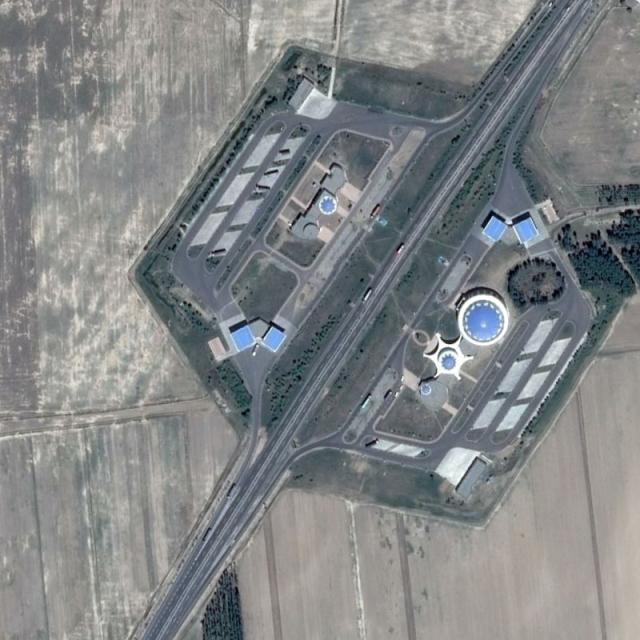vehicle: (226, 485, 237, 498), (362, 289, 372, 303), (362, 394, 372, 408), (202, 528, 212, 542), (366, 440, 379, 450), (370, 206, 380, 218), (263, 170, 278, 178), (210, 250, 227, 257), (252, 344, 259, 357), (384, 390, 392, 401), (397, 244, 405, 254), (257, 186, 270, 192), (278, 150, 290, 156)
